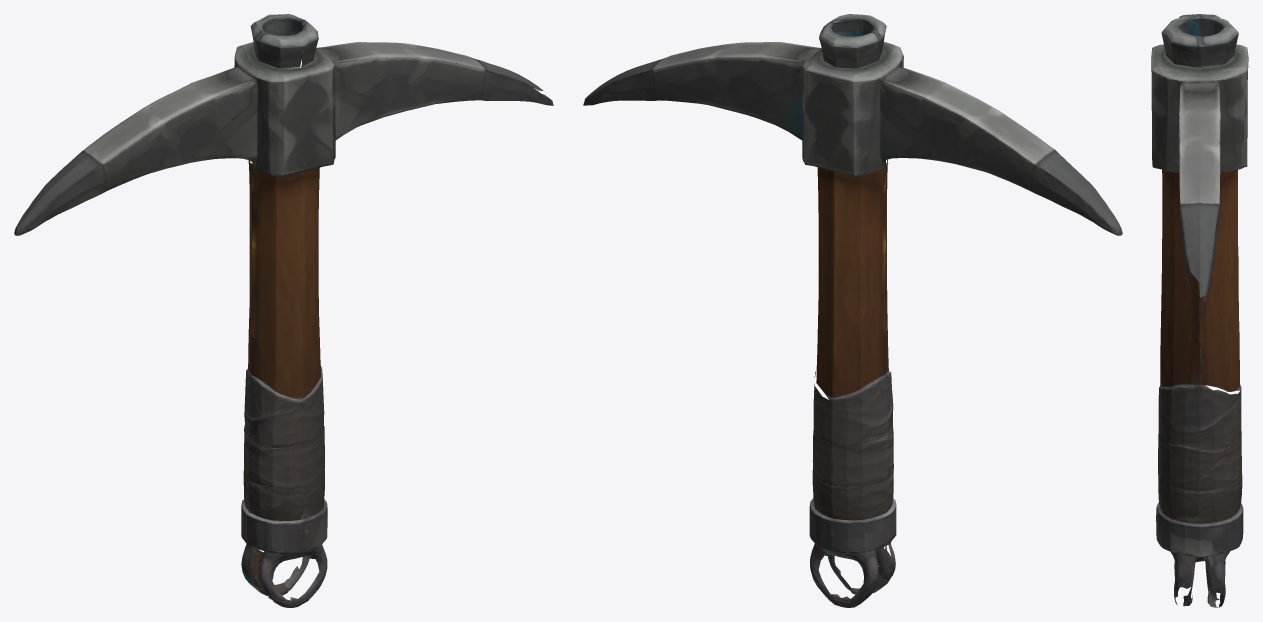
Rendered from pico_3.glb.
3 renders of one model, left to right at view 1: azimuth 30°, elevation 25°; view 2: azimuth 150°, elevation 25°; view 3: azimuth 270°, elevation 25°, orthographic.
Parts seen in each view (by area): view 1: geometry_0; view 2: geometry_0; view 3: geometry_0.
Part boxes in pixels (x1,y1,x2,y2): geometry_0: (14, 14, 553, 607); geometry_0: (583, 14, 1122, 607); geometry_0: (1151, 14, 1248, 607).
Size of the model in its own units: 0.8279 by 0.8447 by 0.1292.
1 material, 1 textured.
